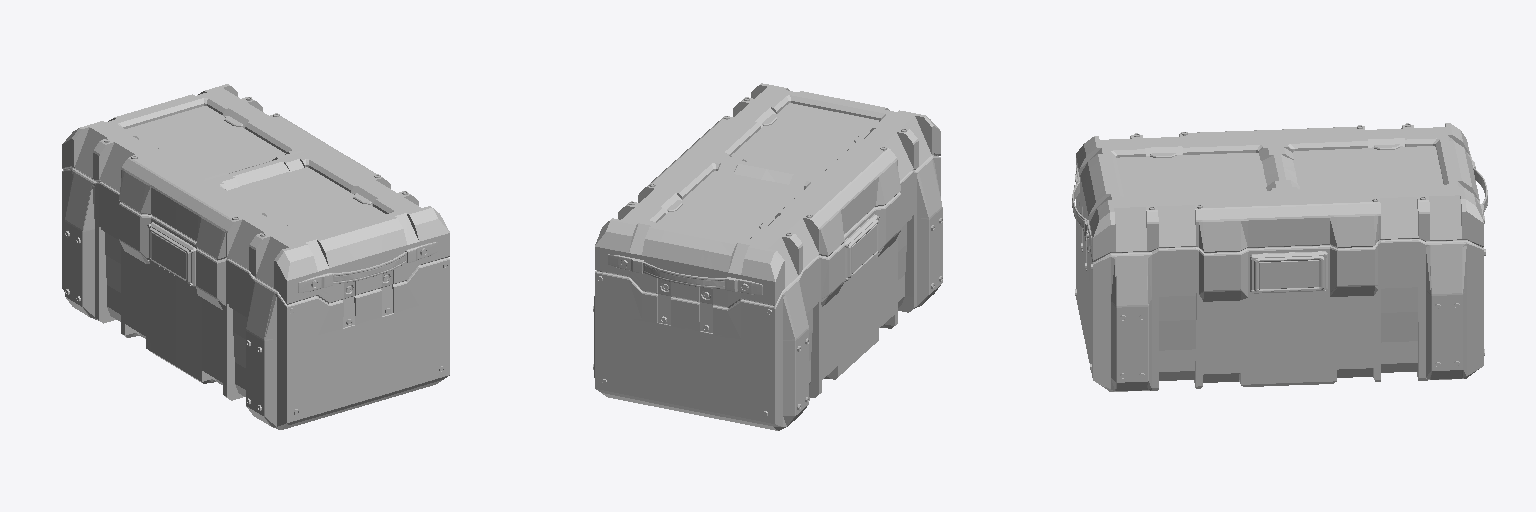
3 renders of one model, left to right at view 1: azimuth 30°, elevation 25°; view 2: azimuth 150°, elevation 25°; view 3: azimuth 270°, elevation 25°, orthographic.
Parts seen in each view (by area): view 1: sffCrate4_Shape; view 2: sffCrate4_Shape; view 3: sffCrate4_Shape.
Boxes of the visible parts, x1=… form: sffCrate4_Shape: x1=62, y1=84, x2=449, y2=429; sffCrate4_Shape: x1=593, y1=83, x2=942, y2=430; sffCrate4_Shape: x1=1072, y1=123, x2=1487, y2=391.
Bounding box in the file's own units: 28.35 × 21.89 × 45.89.